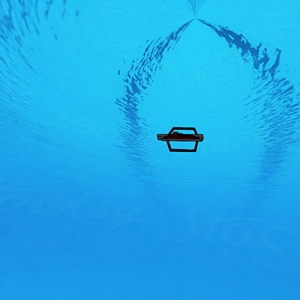submarine: (157, 124, 204, 150)
